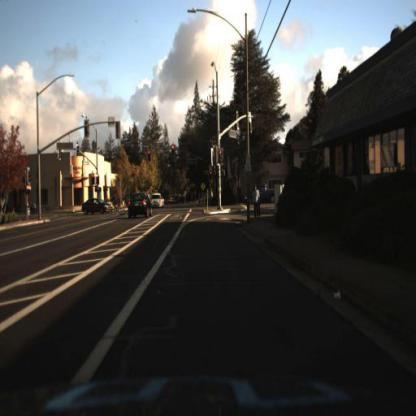biker: (109, 190, 126, 219), (106, 191, 123, 218), (28, 204, 40, 217)
car: (248, 183, 279, 208), (127, 193, 155, 220), (79, 195, 113, 216), (243, 185, 281, 203), (83, 200, 114, 216), (152, 194, 168, 212), (151, 194, 165, 211)
pedestrian: (251, 184, 261, 222)
trafficLight-Red: (170, 143, 178, 161), (218, 147, 225, 165), (209, 169, 215, 187), (172, 146, 177, 158)
trafficLight-RedLeft: (147, 144, 155, 162), (90, 175, 96, 189), (91, 172, 96, 188), (148, 150, 152, 163)
